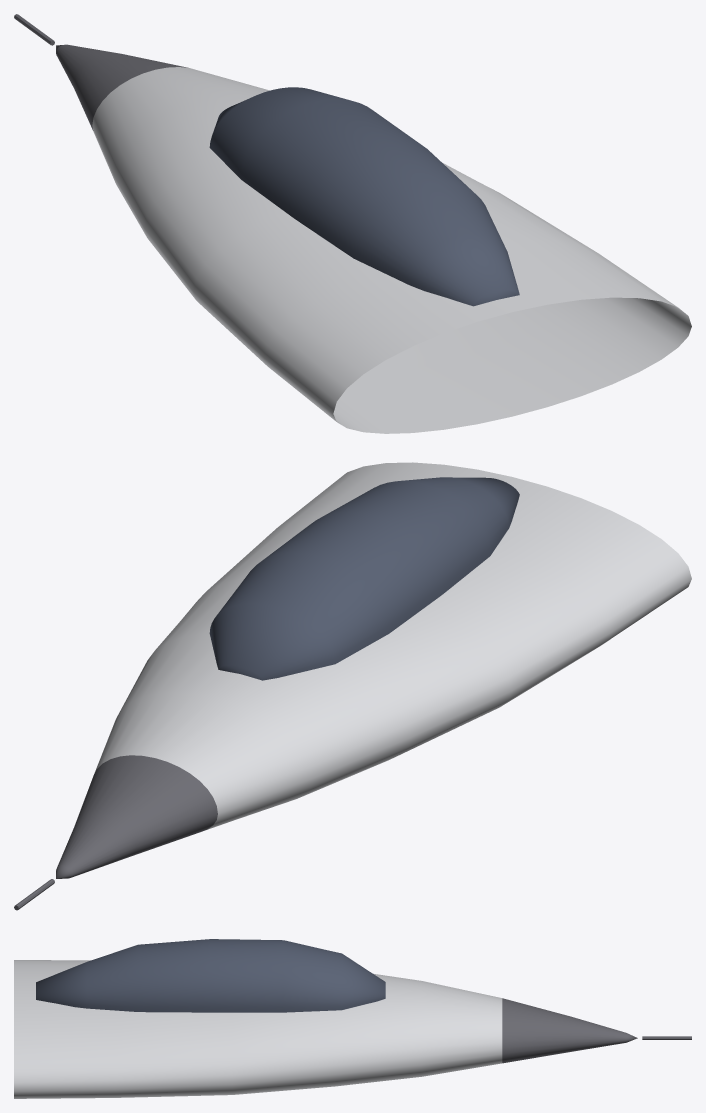
The model's file is f14_front.glb.
3 views of the same model, one above another, from view 1: azimuth 30°, elevation 25°; view 2: azimuth 150°, elevation 25°; view 3: azimuth 270°, elevation 25° (orthographic). The views are drawn at different scales.
Visible parts, largest first — view 1: f14_front; view 2: f14_front; view 3: f14_front.
Boxes of the visible parts, <box> form: f14_front: <box>14,14,691,433</box>; f14_front: <box>14,462,691,910</box>; f14_front: <box>14,939,691,1098</box>.
Size of the model in its own units: 1.94 by 0.914 by 4.65.
